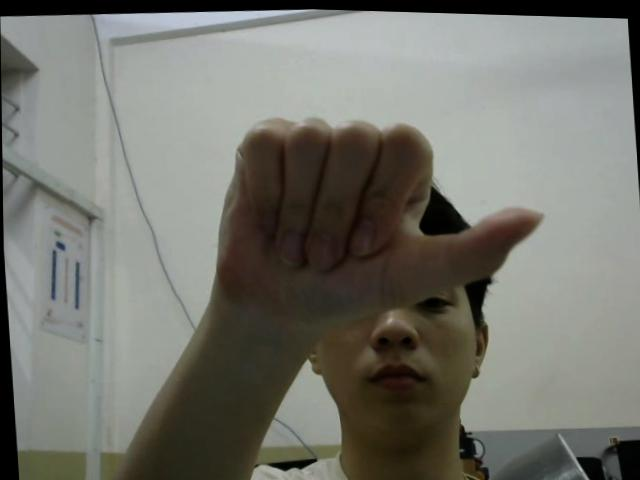A: (203, 103, 551, 320)
